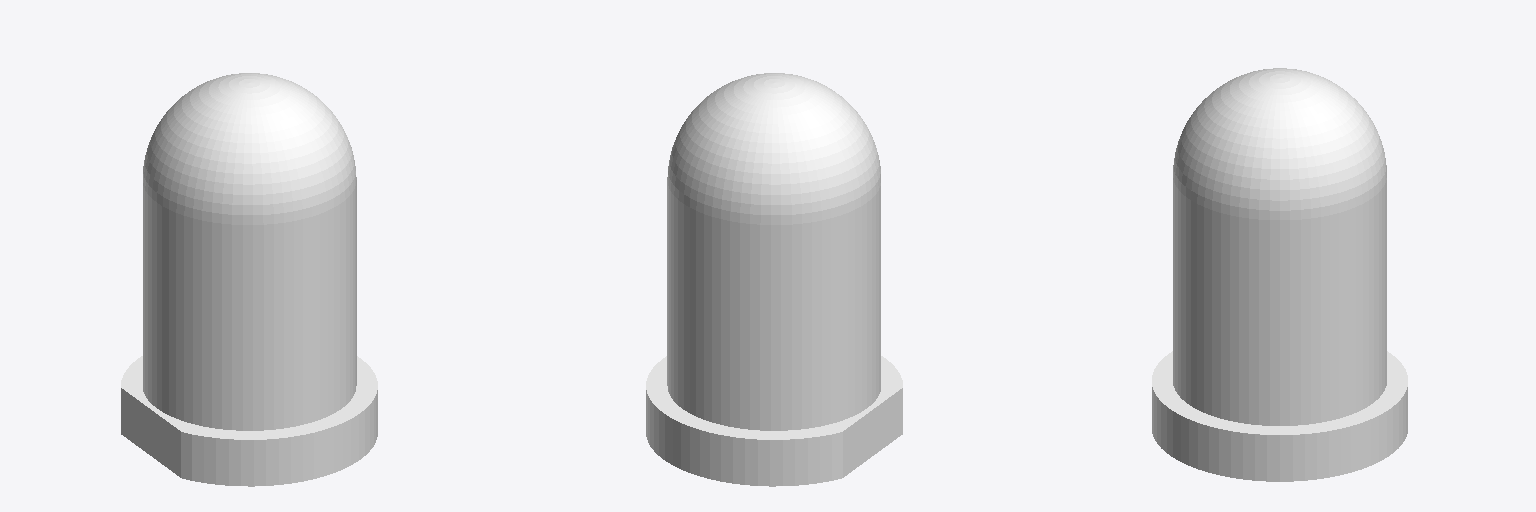
The model's file is LED_bulb.obj.
The picture shows the model from 3 angles: view 1: azimuth 30°, elevation 25°; view 2: azimuth 150°, elevation 25°; view 3: azimuth 270°, elevation 25°; orthographic projection.
Visible parts, largest first — view 1: LED_Housing; view 2: LED_Housing; view 3: LED_Housing.
Part boxes in pixels (x1,y1,x2,y2): LED_Housing: (121,73,377,486); LED_Housing: (646,73,902,486); LED_Housing: (1152,68,1407,481).
Bounding box in the file's own units: 5.65 × 9 × 6.